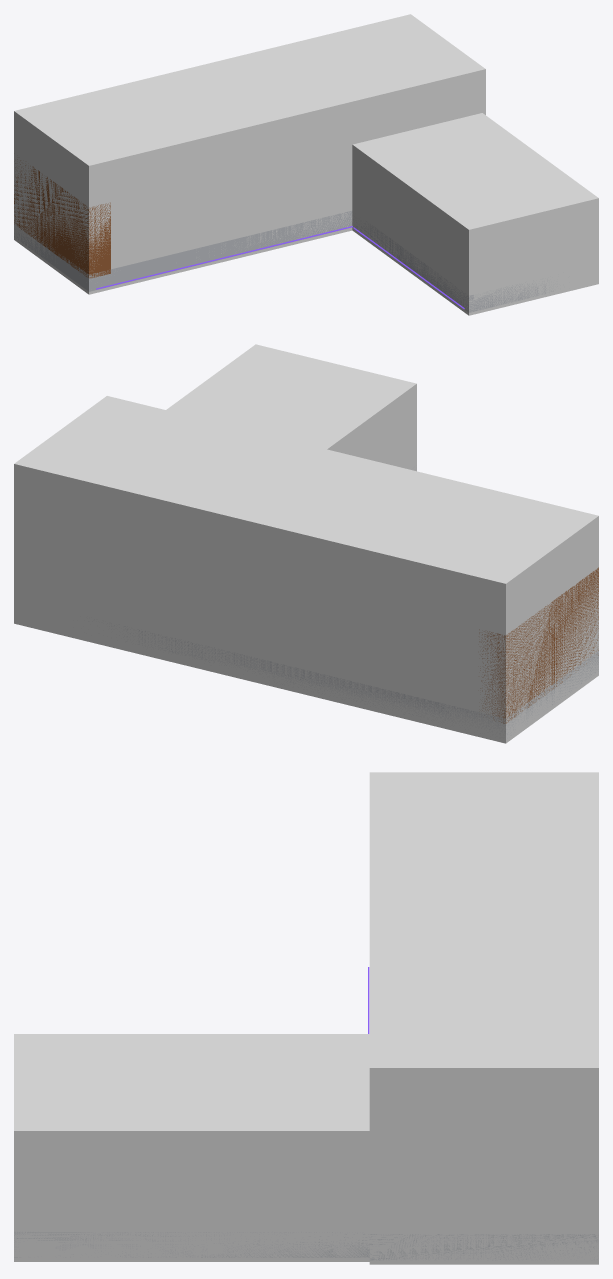
The model's file is Furn_Sofa_L.gltf.
3 renders of one model, top to bottom at view 1: azimuth 30°, elevation 25°; view 2: azimuth 150°, elevation 25°; view 3: azimuth 270°, elevation 25°, orthographic. The views are drawn at different scales.
Visible parts, largest first — view 1: Furn_Sofa_L_COL, Furn_Sofa_L_COL1, Furn_Sofa_L; view 2: Furn_Sofa_L_COL, Furn_Sofa_L_COL1, Furn_Sofa_L; view 3: Furn_Sofa_L_COL, Furn_Sofa_L_COL1, Furn_Sofa_L.
Part boxes in pixels (bbox=[...]): Furn_Sofa_L_COL: bbox=[14, 14, 485, 294]; Furn_Sofa_L_COL1: bbox=[352, 113, 598, 315]; Furn_Sofa_L: bbox=[14, 159, 557, 312]; Furn_Sofa_L_COL: bbox=[14, 396, 598, 743]; Furn_Sofa_L_COL1: bbox=[166, 344, 416, 471]; Furn_Sofa_L: bbox=[88, 567, 598, 738]; Furn_Sofa_L_COL: bbox=[369, 772, 598, 1264]; Furn_Sofa_L_COL1: bbox=[14, 1034, 369, 1261]; Furn_Sofa_L: bbox=[14, 967, 598, 1260].
Bounding box in the file's own units: 2.9 × 0.9 × 2.43.
